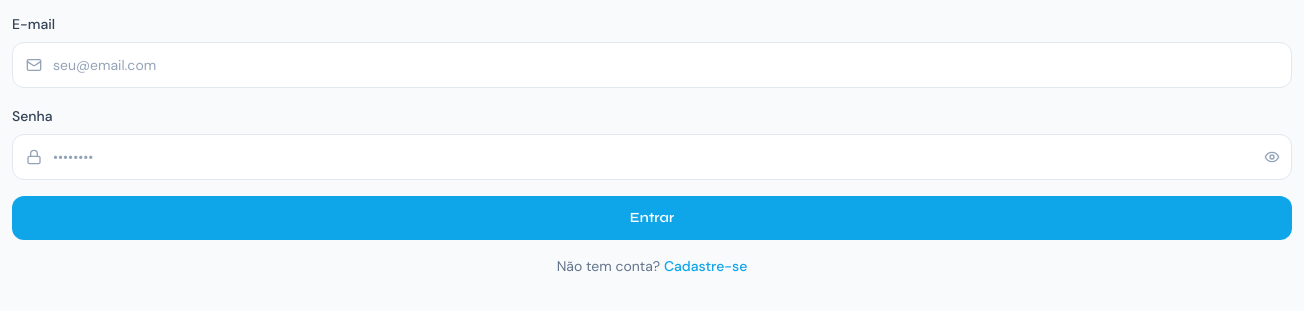
Test: LoginForm › exibe erro de senha curta
The width and height of the screenshot is (1304, 311).
Step 1. Click the field with placeholder "seu@email.com" → (652,65), box [12,42,1292,88]
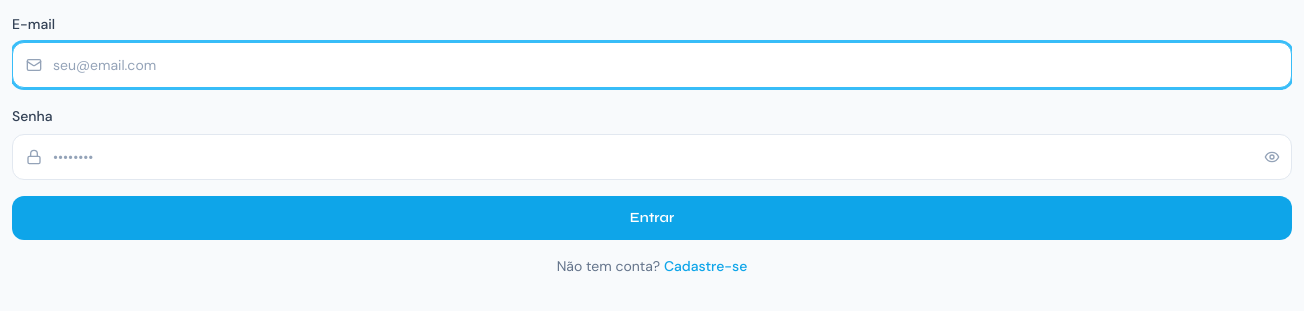
Step 2. Type keys "test@test.com"
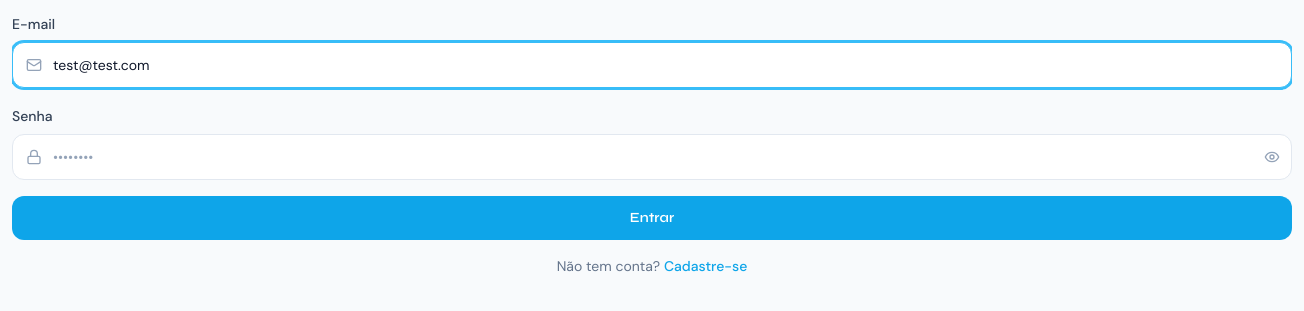
Step 3. Click the password field with placeholder "••••••••" → (652,157), box [12,134,1292,180]
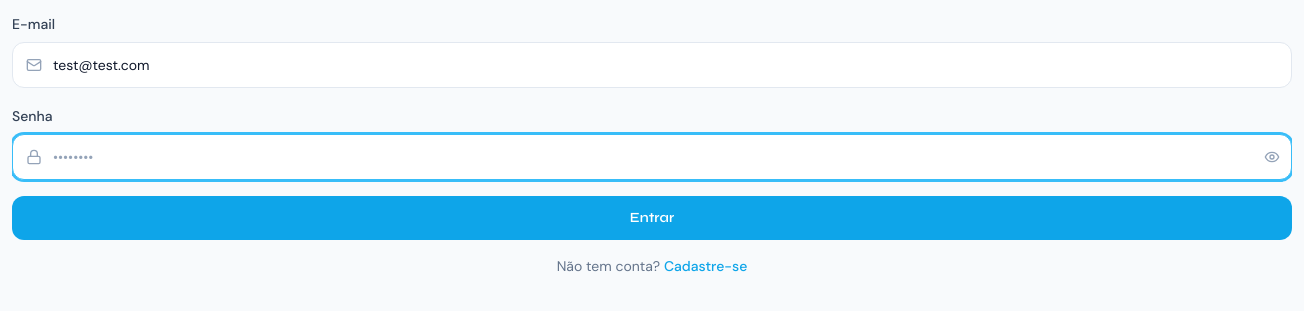
Step 4. Type keys "123"
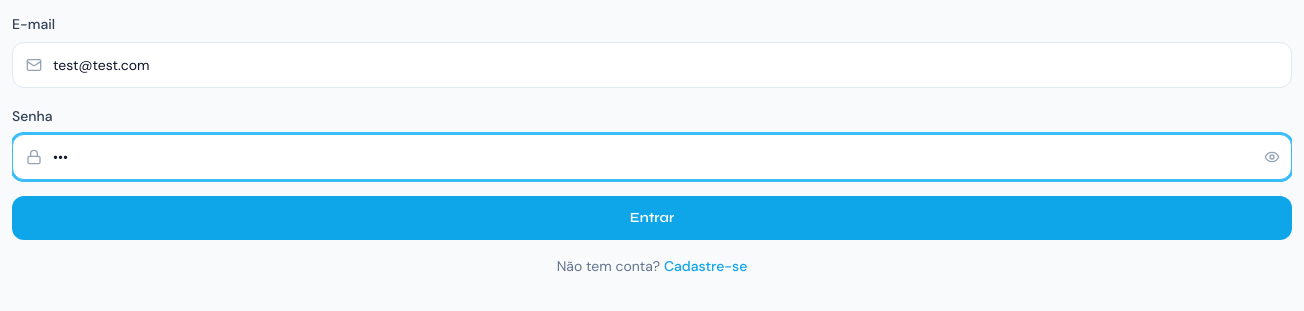
Step 5. Click the button "Entrar" → (652,218), box [12,196,1292,240]
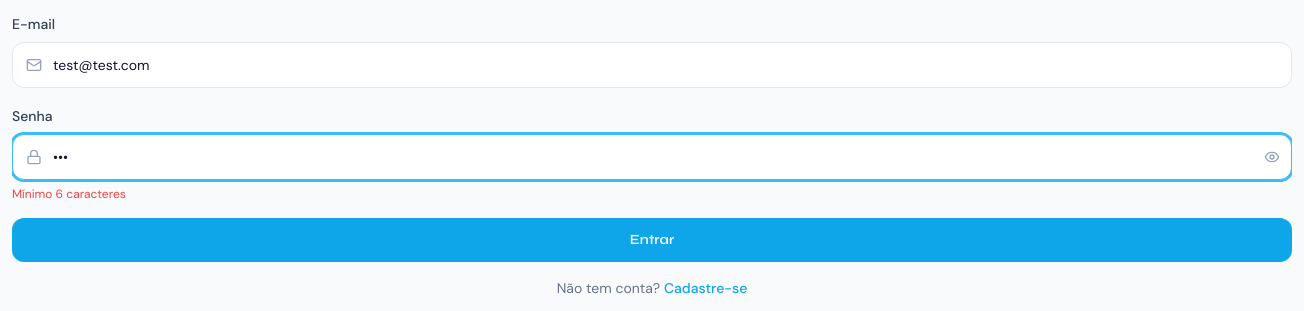
Result: the text "Mínimo 6 caracteres" is shown at [12,186,126,202]
